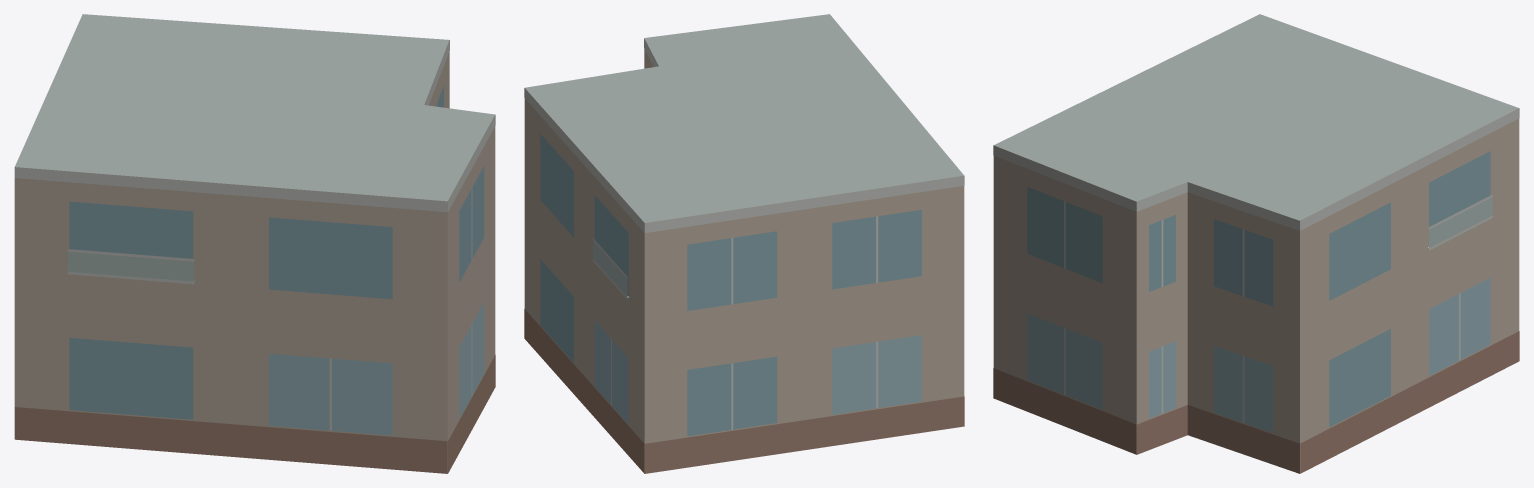
File: survey-upis-33029756.glb
The picture shows the model from 3 angles, left to right: view 1: azimuth 30°, elevation 25°; view 2: azimuth 150°, elevation 25°; view 3: azimuth 270°, elevation 25°; orthographic projection. The views are drawn at different scales.
Visible parts, largest first — view 1: survey-upis-33029756.tmp; view 2: survey-upis-33029756.tmp; view 3: survey-upis-33029756.tmp.
Part boxes in pixels (bbox=[...]): survey-upis-33029756.tmp: bbox=[14, 14, 495, 473]; survey-upis-33029756.tmp: bbox=[524, 14, 964, 473]; survey-upis-33029756.tmp: bbox=[993, 14, 1519, 473].
Bounding box in the file's own units: 10.7 × 6.1 × 11.5.
